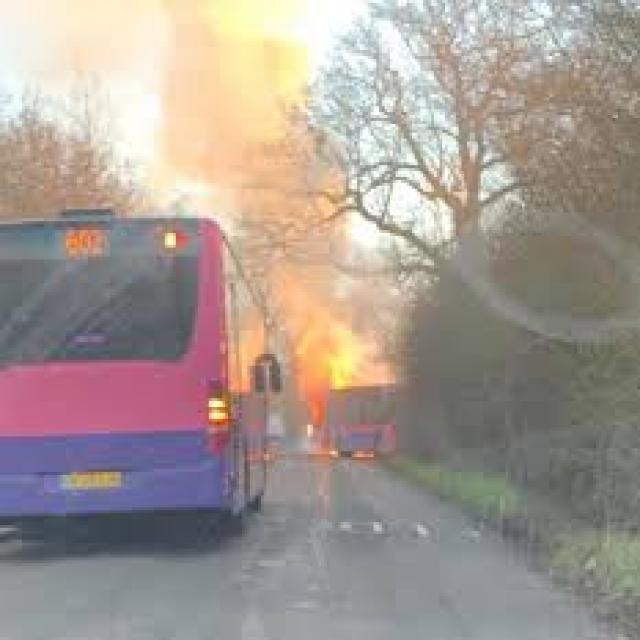Fire: (247, 279, 429, 466)
Smoke: (141, 0, 358, 271)
